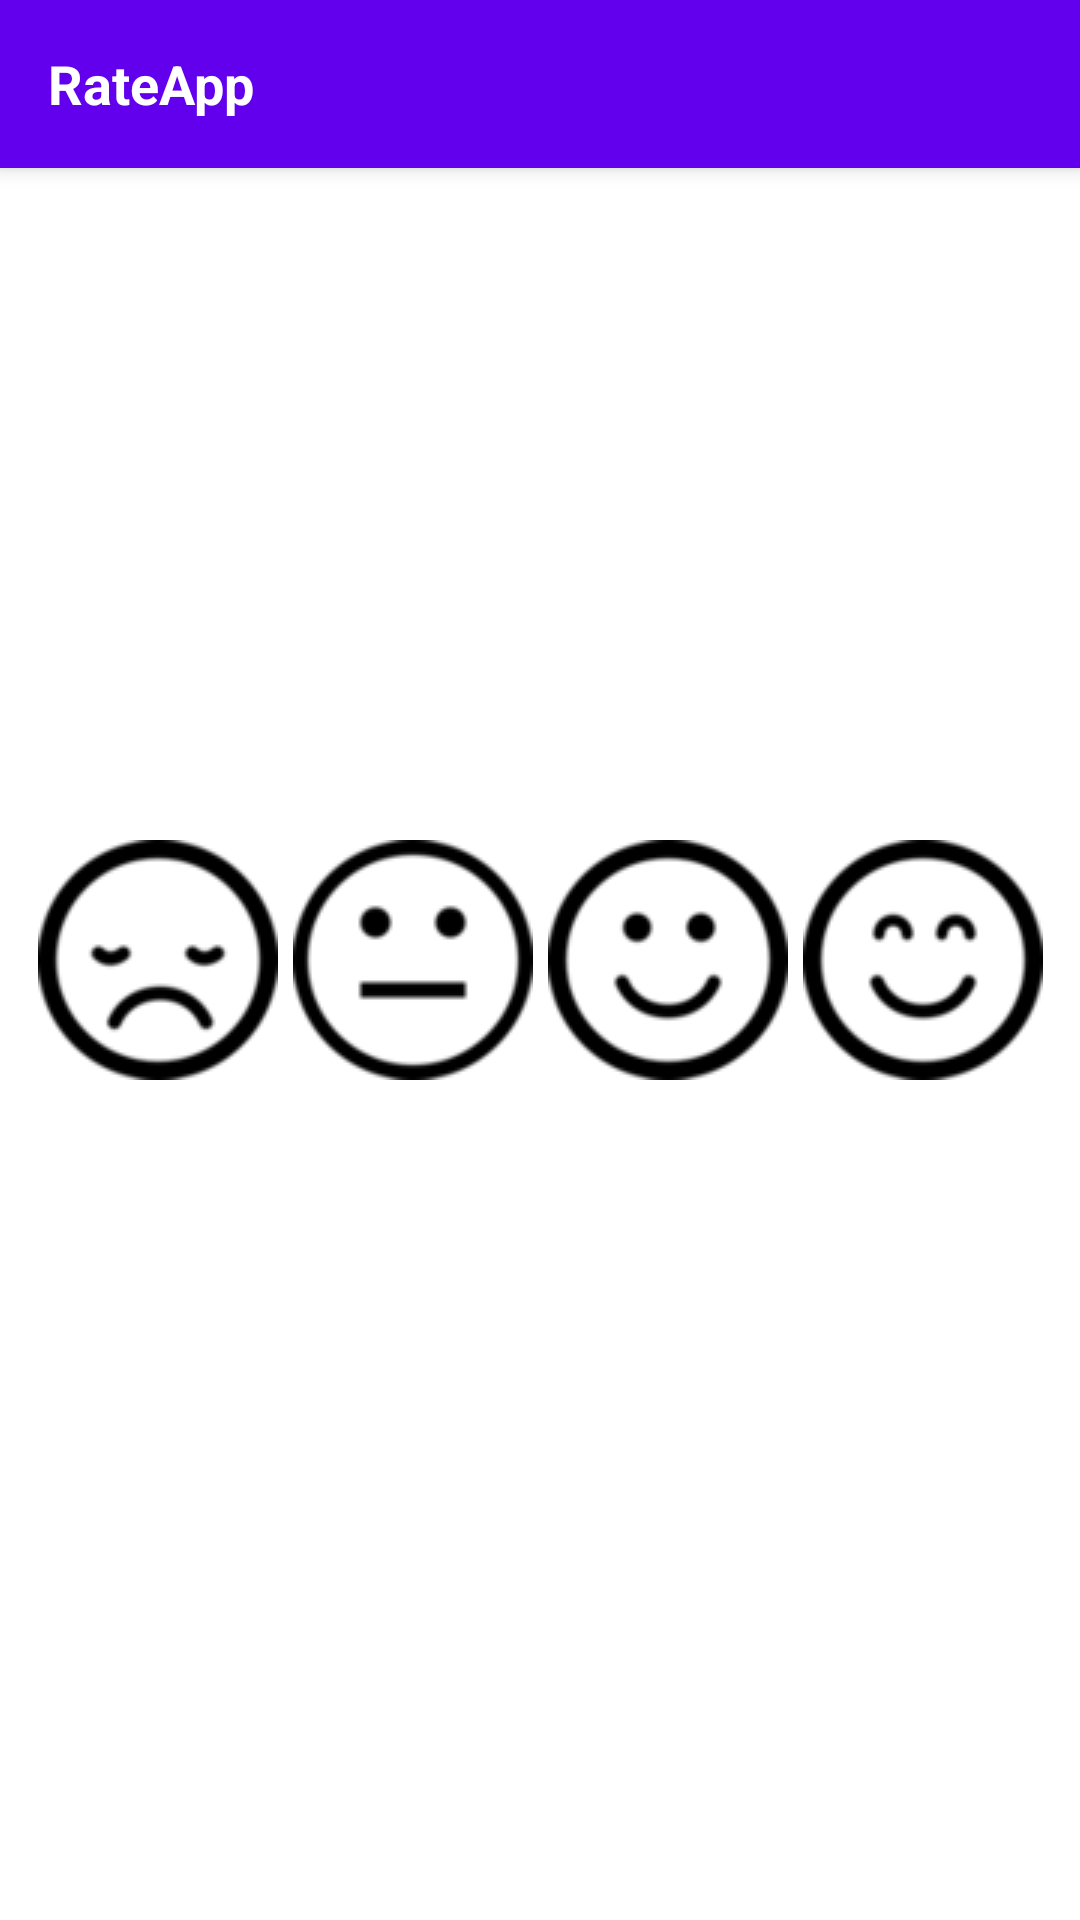

Where to tap for icons on this 1080px x 1920px app screen, as (x,y):
sad face: (158,960)
